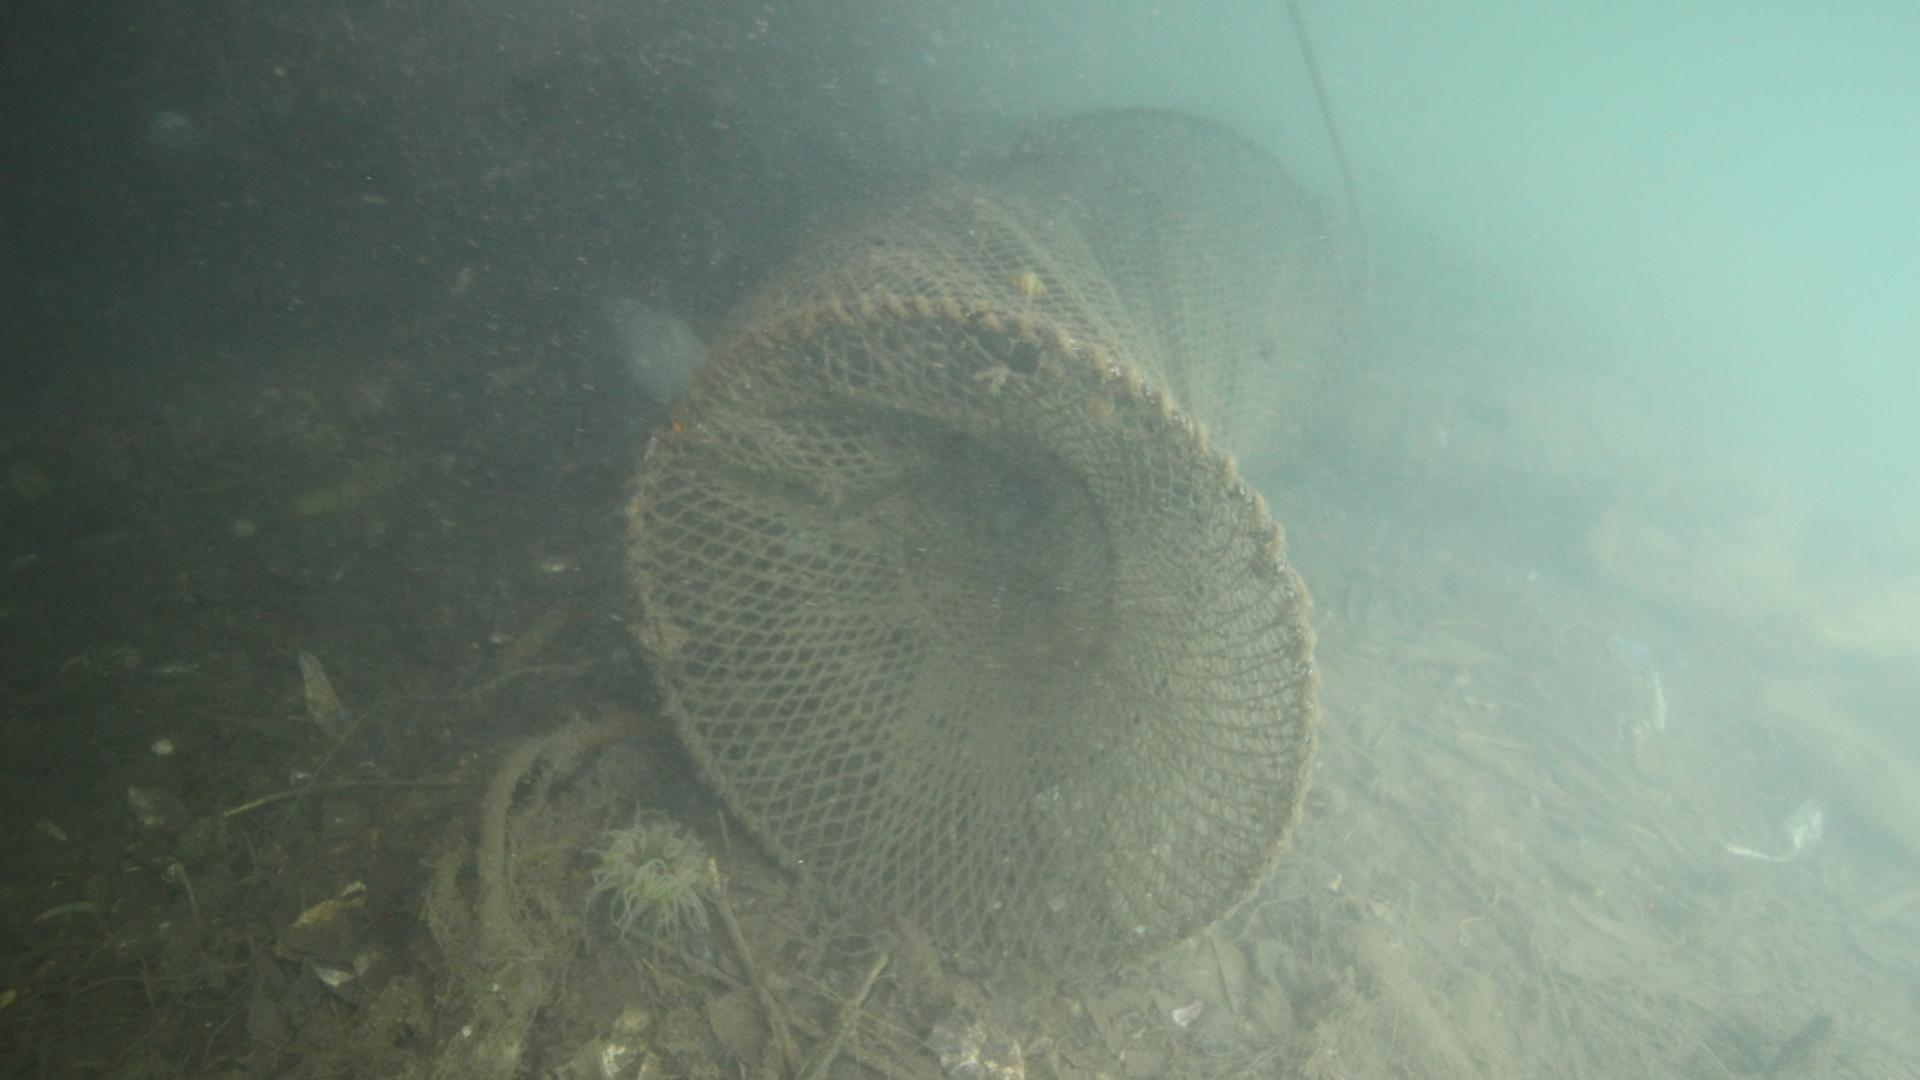spring fish trap: (622, 108, 1348, 985)
